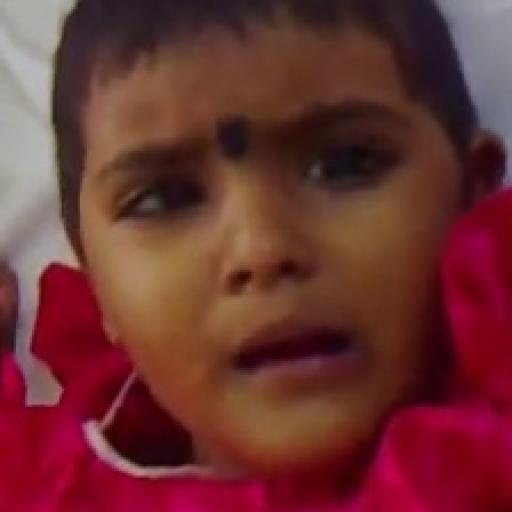Autism: (55, 20, 443, 479)
